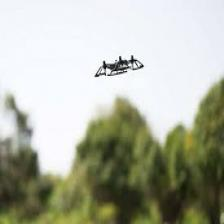drone: (95, 55, 144, 79)
